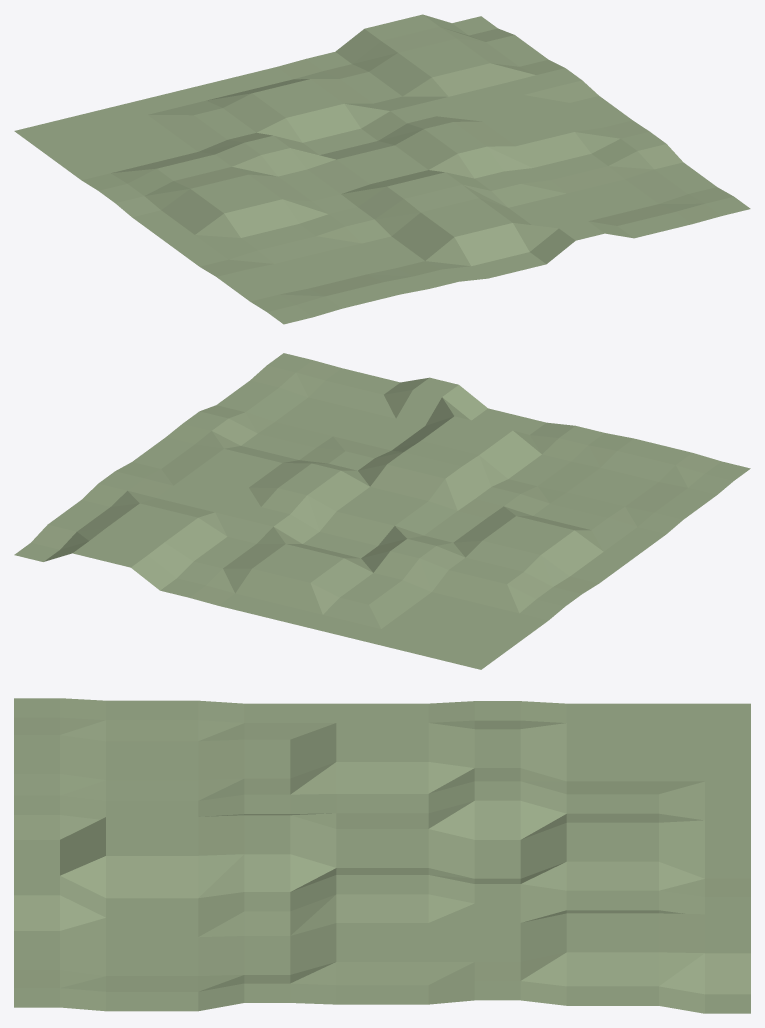
The picture shows the model from 3 angles, top to bottom: view 1: azimuth 30°, elevation 25°; view 2: azimuth 150°, elevation 25°; view 3: azimuth 270°, elevation 25°; orthographic projection. The views are drawn at different scales.
Bounding box in the file's own units: 32 × 1.18 × 32.
